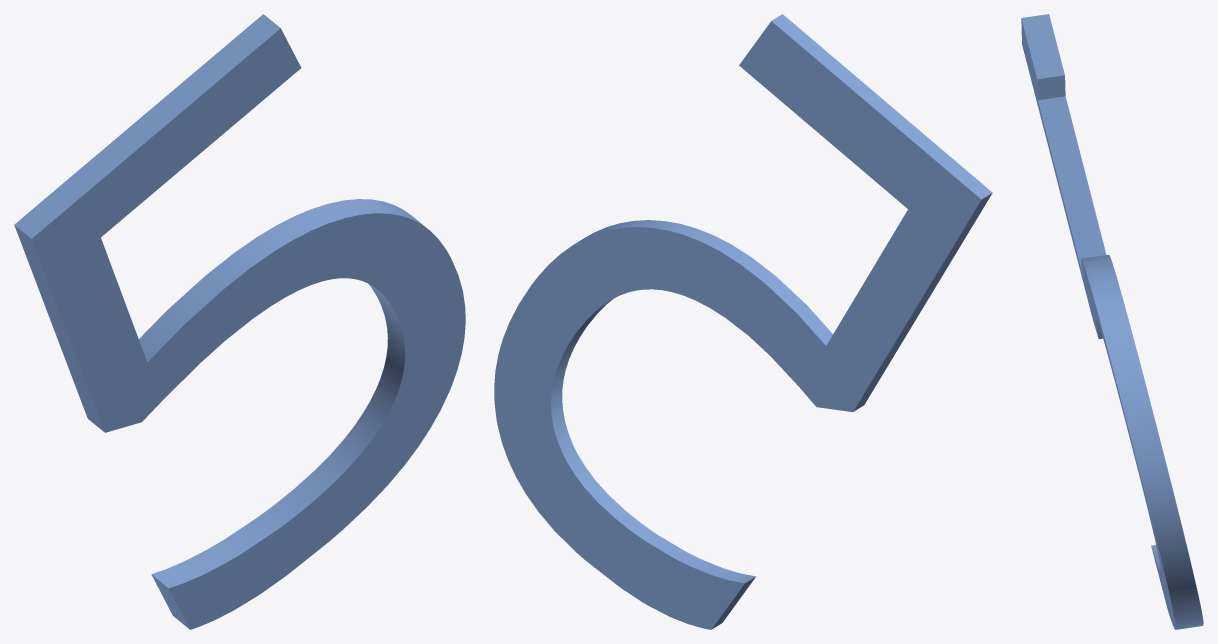
The model's file is New_Number_5.gltf.
3 views of the same model, side by side, from view 1: azimuth 30°, elevation 25°; view 2: azimuth 150°, elevation 25°; view 3: azimuth 270°, elevation 25° (orthographic). The views are drawn at different scales.
Parts seen in each view (by area): view 1: Part 113; view 2: Part 113; view 3: Part 113.
Boxes of the visible parts, left/top/right/bottom form: Part 113: left=14, top=14, right=465, bottom=629; Part 113: left=494, top=14, right=992, bottom=629; Part 113: left=1021, top=14, right=1203, bottom=629.
Bounding box in the file's own units: 0.00481 × 0.00601 × 0.00166.
